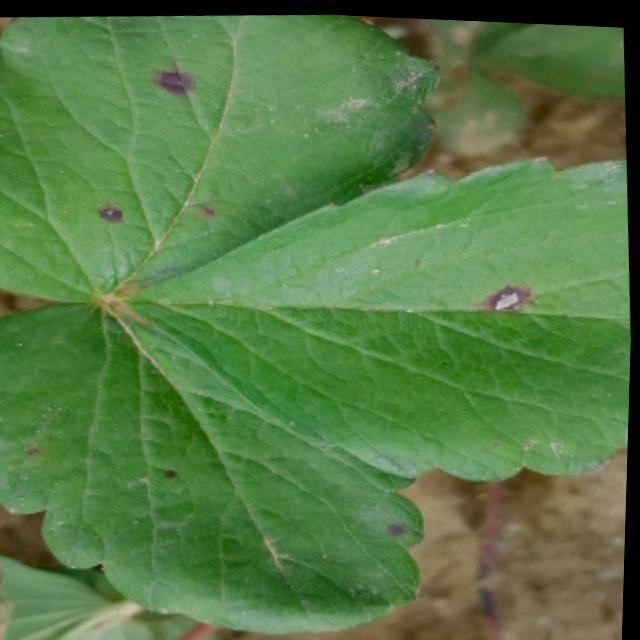Leaf Spot: (104, 148, 633, 477), (0, 298, 430, 632), (0, 11, 447, 301), (429, 51, 533, 150)
